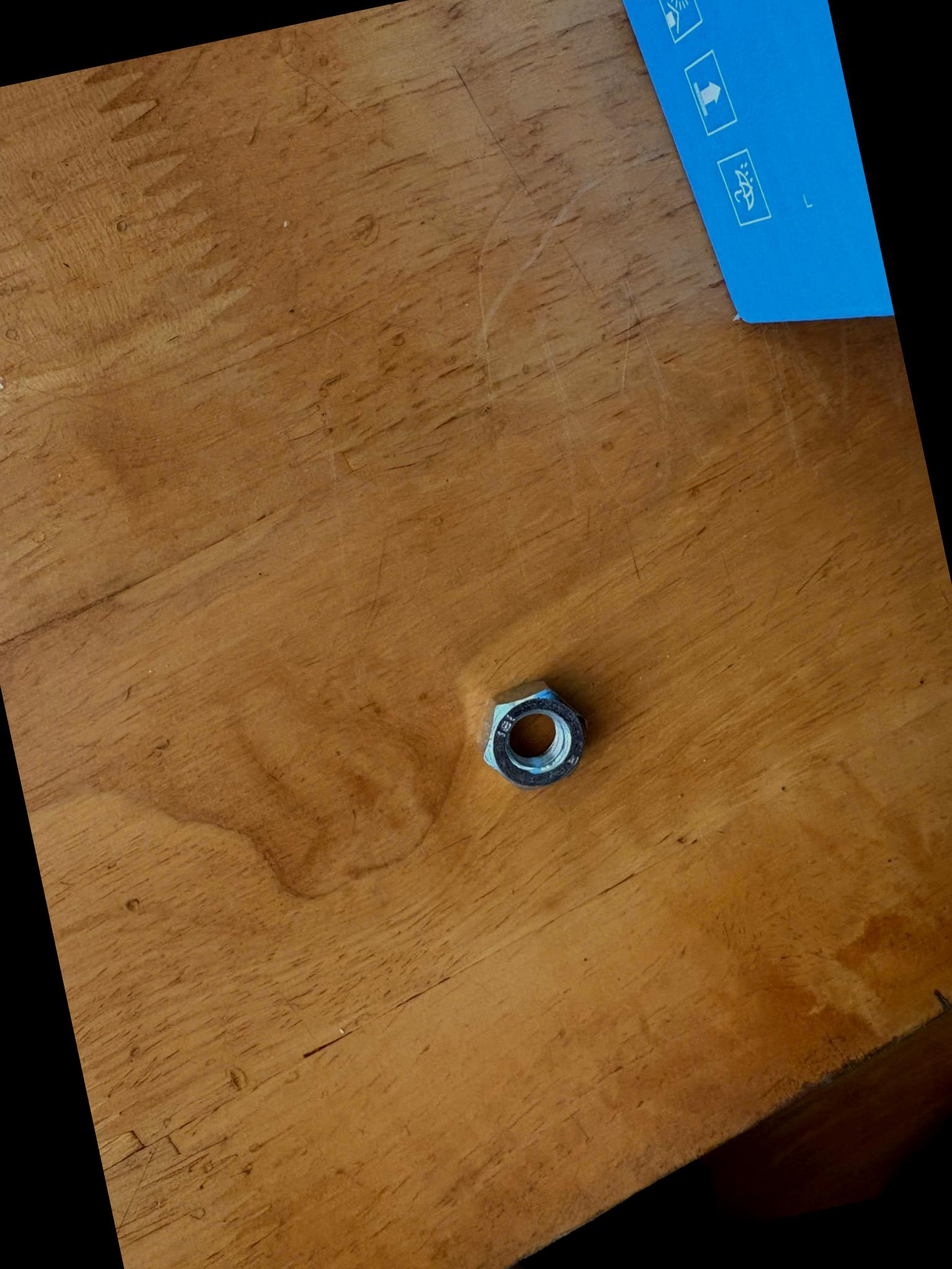nut: (464, 663, 618, 805)
